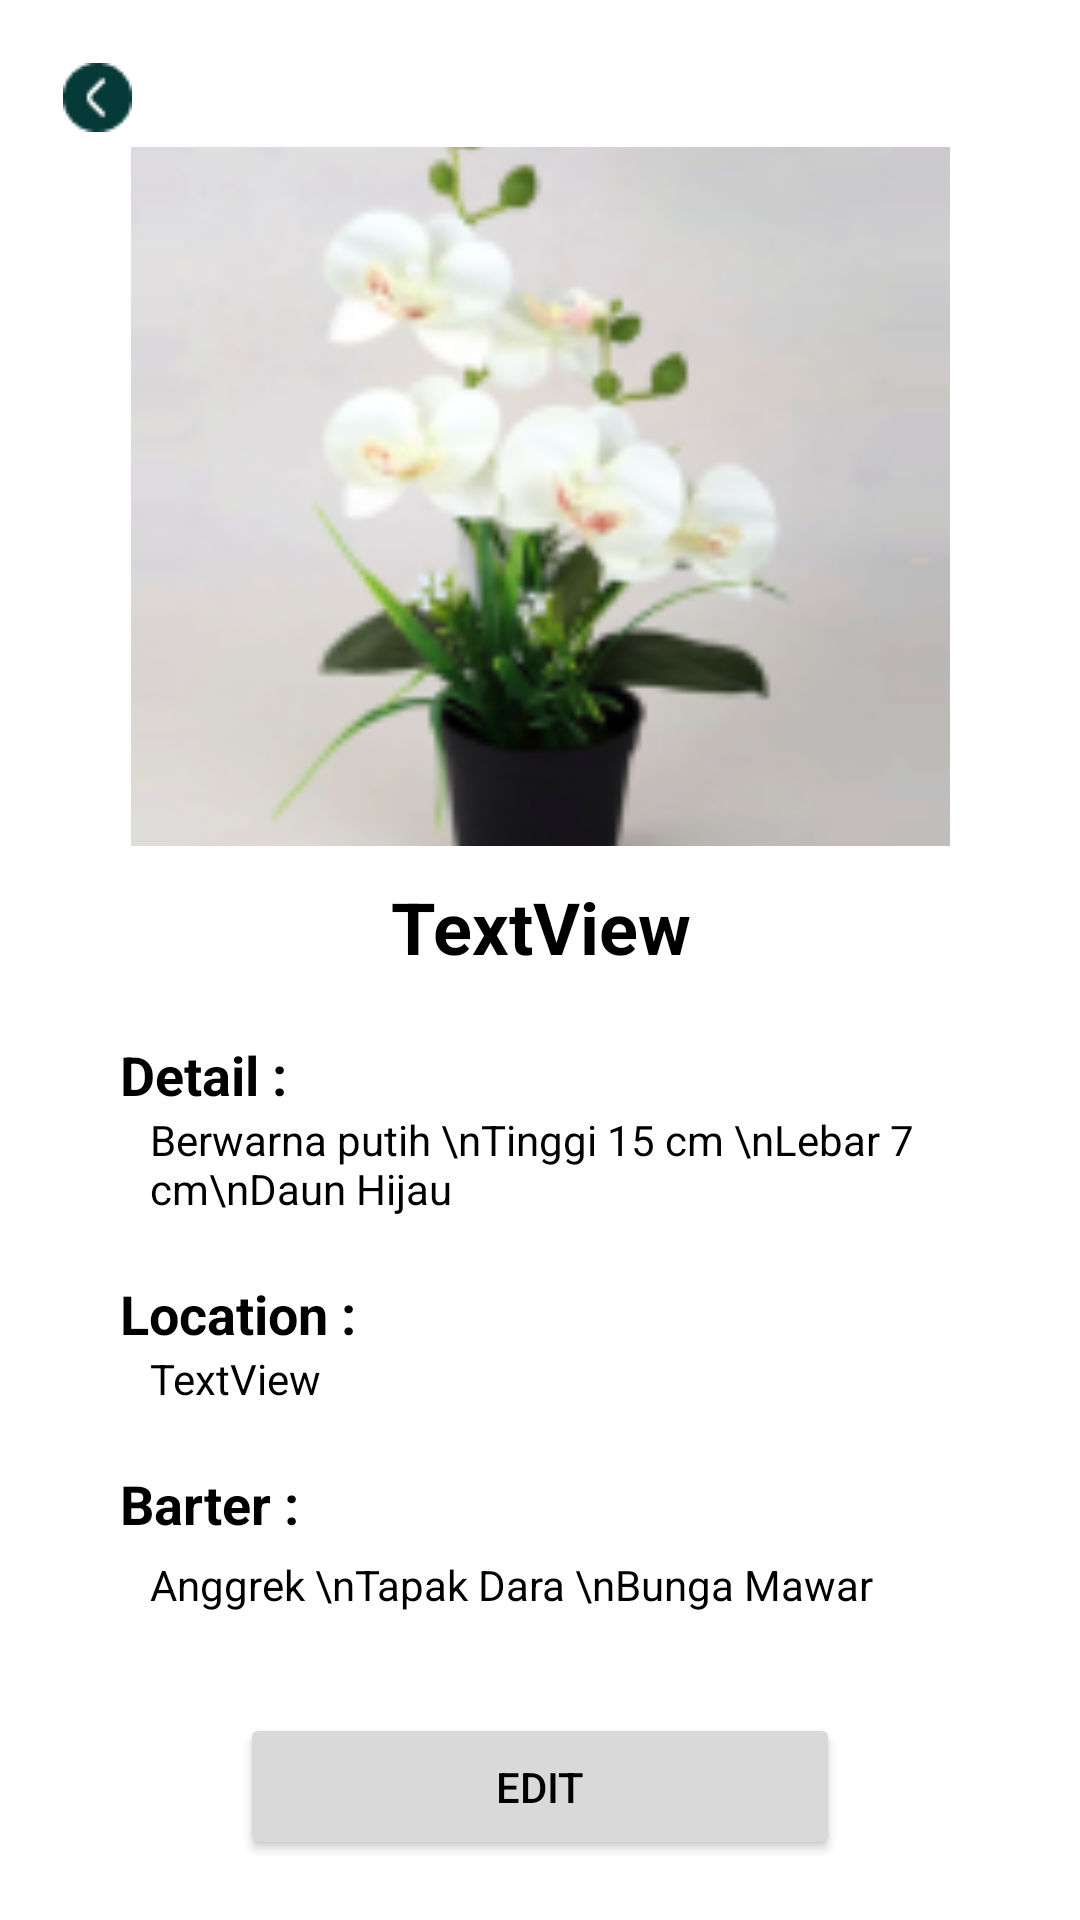

Screen size 1080px x 1920px. Icon name, then its box in pixels as BBox(x1, y1, x2, y2):
back: BBox(63, 63, 132, 132)
